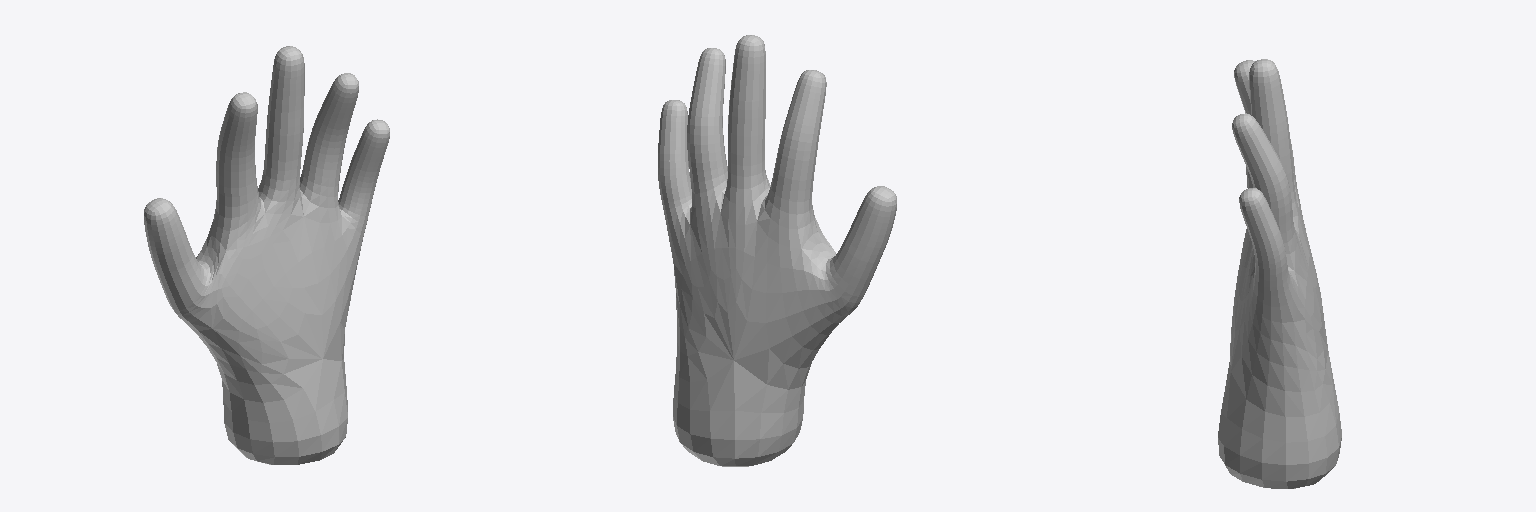
Rendered from handanimatsion3.obj.
The picture shows the model from 3 angles: view 1: azimuth 30°, elevation 25°; view 2: azimuth 150°, elevation 25°; view 3: azimuth 270°, elevation 25°; orthographic projection.
Parts seen in each view (by area): view 1: Cube; view 2: Cube; view 3: Cube.
Boxes of the visible parts, box(x1,y1,x2,y2) form: Cube: box(144, 46, 389, 464); Cube: box(658, 35, 896, 466); Cube: box(1218, 59, 1341, 488).
Bounding box in the file's own units: 3.88 × 6.5 × 1.77.